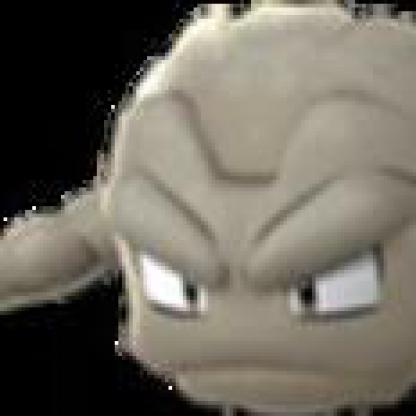Geodude: (1, 1, 414, 414)
